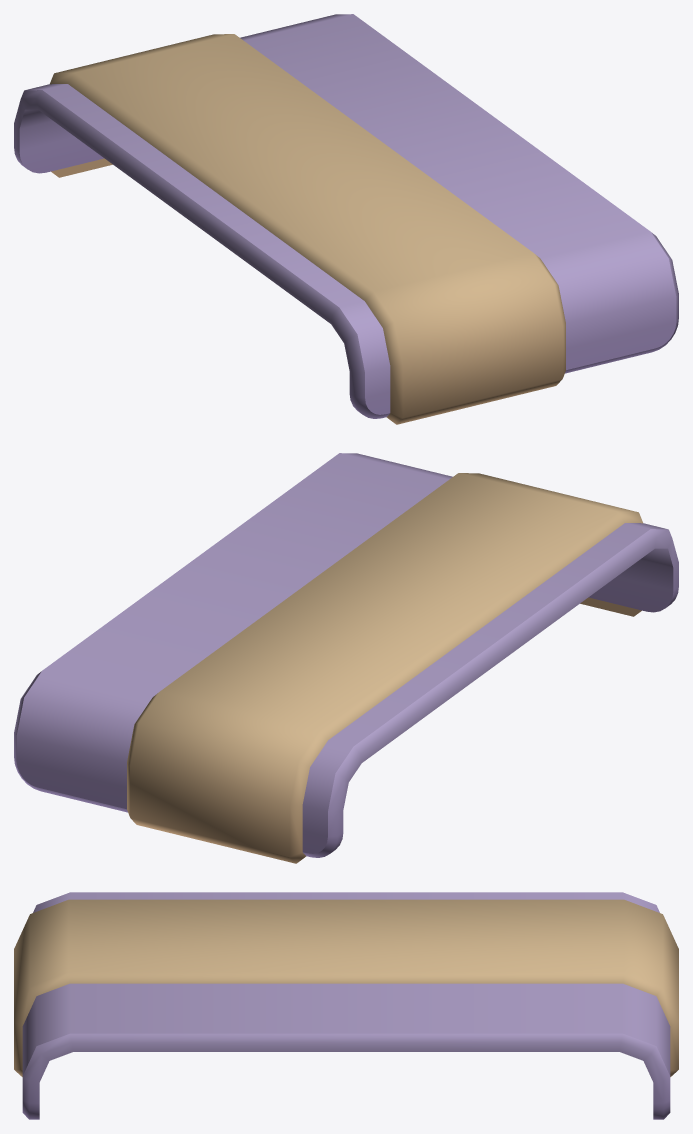
The model's file is cover-duvet-double.glb.
The picture shows the model from 3 angles, top to bottom: view 1: azimuth 30°, elevation 25°; view 2: azimuth 150°, elevation 25°; view 3: azimuth 270°, elevation 25°; orthographic projection. The views are drawn at different scales.
Visible parts, largest first — view 1: cover-duvet-double; view 2: cover-duvet-double; view 3: cover-duvet-double.
Part boxes in pixels (x1=…): cover-duvet-double: x1=14, y1=14, x2=678, y2=424; cover-duvet-double: x1=14, y1=453, x2=678, y2=863; cover-duvet-double: x1=14, y1=892, x2=678, y2=1119.
Bounding box in the file's own units: 1.02 × 0.35 × 1.95.
